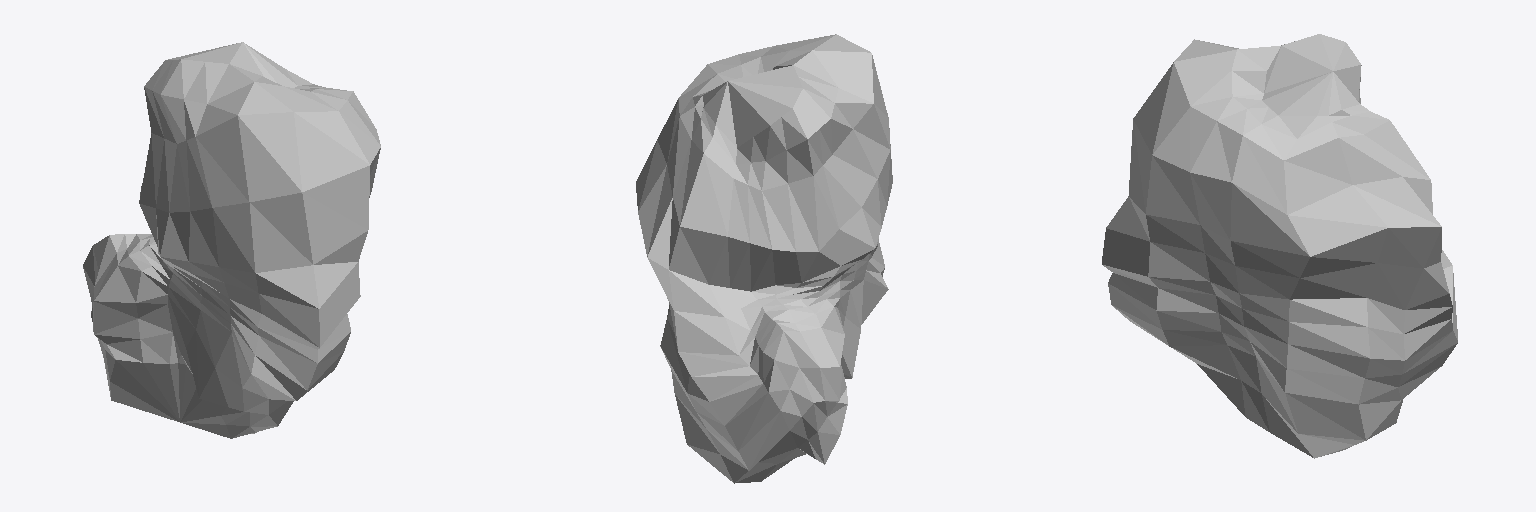
File: rock7.obj
3 renders of one model, left to right at view 1: azimuth 30°, elevation 25°; view 2: azimuth 150°, elevation 25°; view 3: azimuth 270°, elevation 25°, orthographic.
Parts seen in each view (by area): view 1: Sphere; view 2: Sphere; view 3: Sphere.
Part boxes in pixels (left/top/right/bottom): Sphere: left=83, top=42, right=380, bottom=438; Sphere: left=636, top=34, right=892, bottom=483; Sphere: left=1102, top=34, right=1457, bottom=458.
Size of the model in its own units: 1.29 by 2.09 by 1.71.